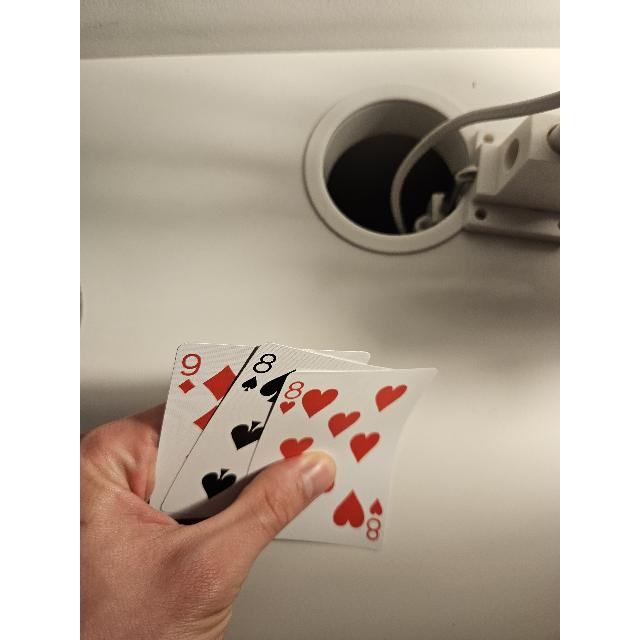8H: (364, 493, 384, 542), (280, 378, 304, 416)
8S: (242, 349, 276, 395)
9D: (181, 350, 201, 394)
